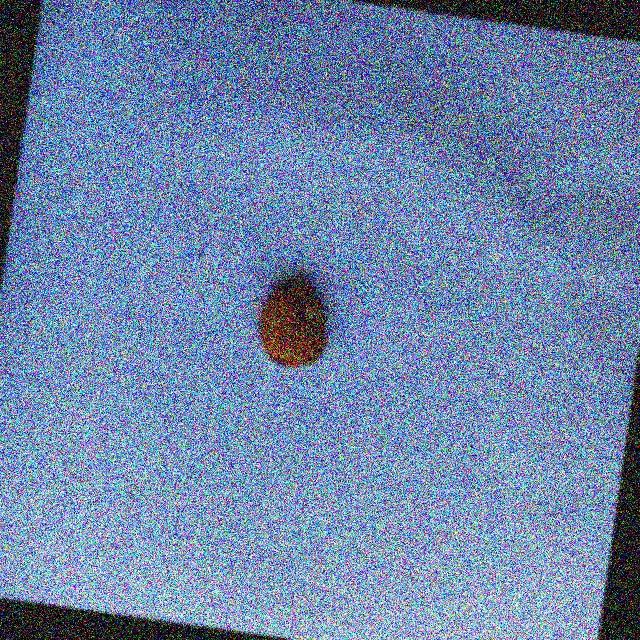grade3: (252, 269, 340, 377)
